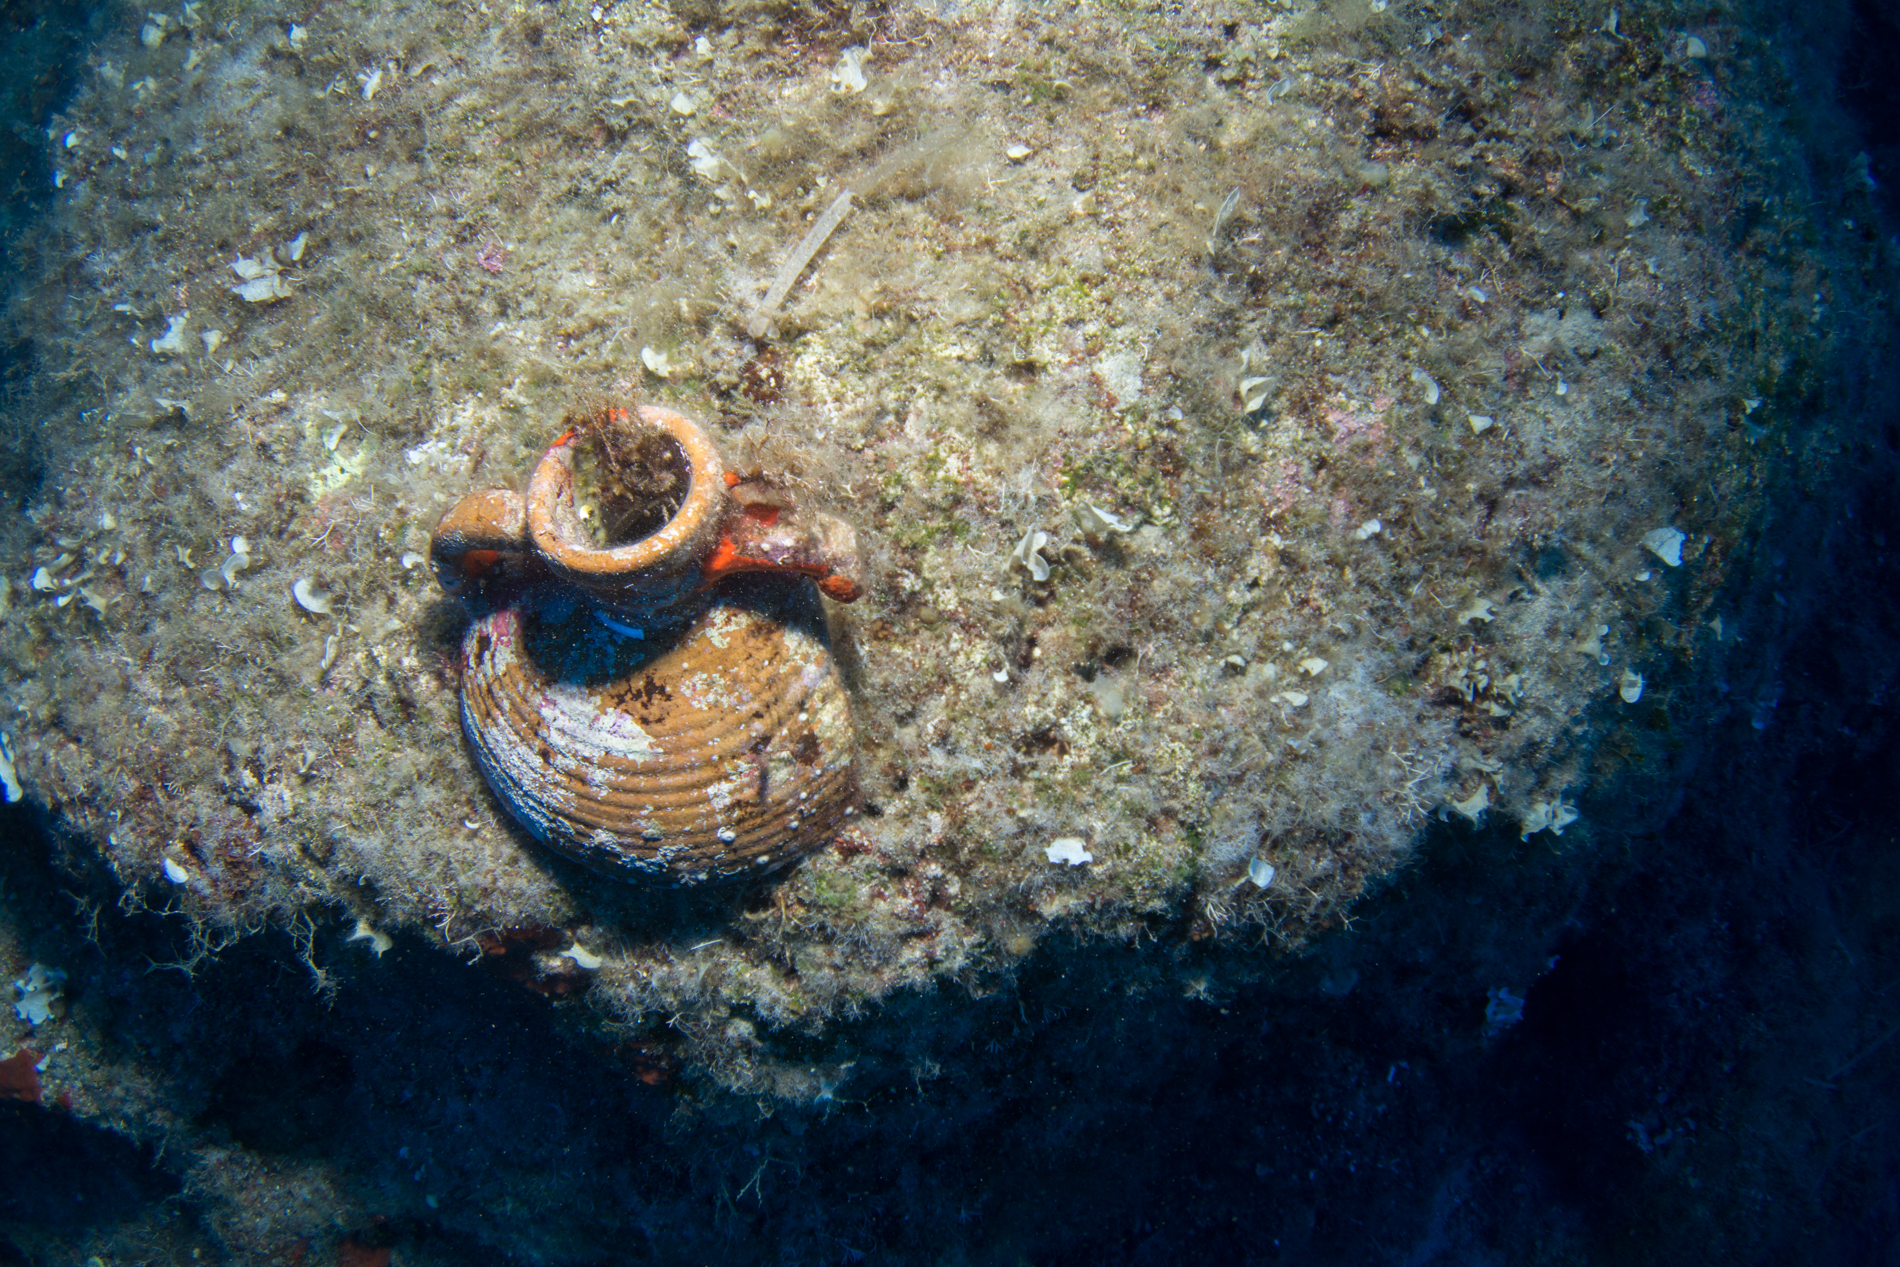amphora: (423, 402, 886, 897)
